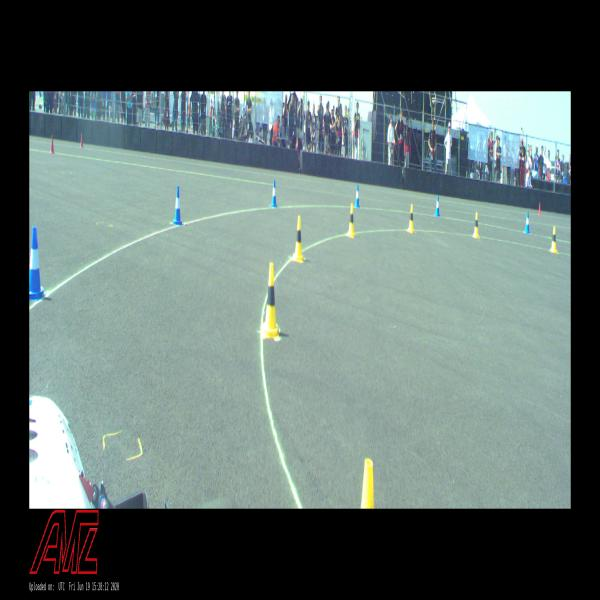blue_cone: (29, 228, 46, 300), (172, 186, 183, 226), (270, 180, 278, 209), (354, 184, 360, 207), (524, 212, 530, 233), (435, 195, 440, 216)
yellow_cone: (261, 264, 280, 338), (292, 216, 305, 262), (347, 204, 355, 238), (407, 203, 415, 233), (550, 226, 558, 253), (472, 211, 479, 238)
